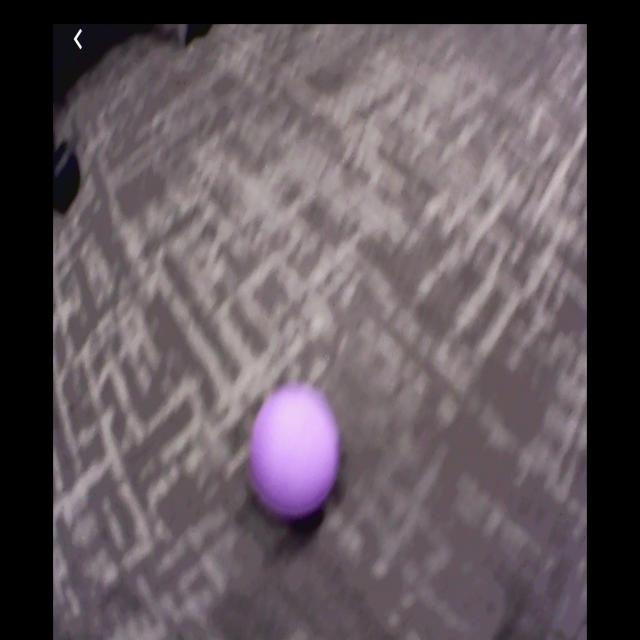ball: (252, 385, 343, 524)
